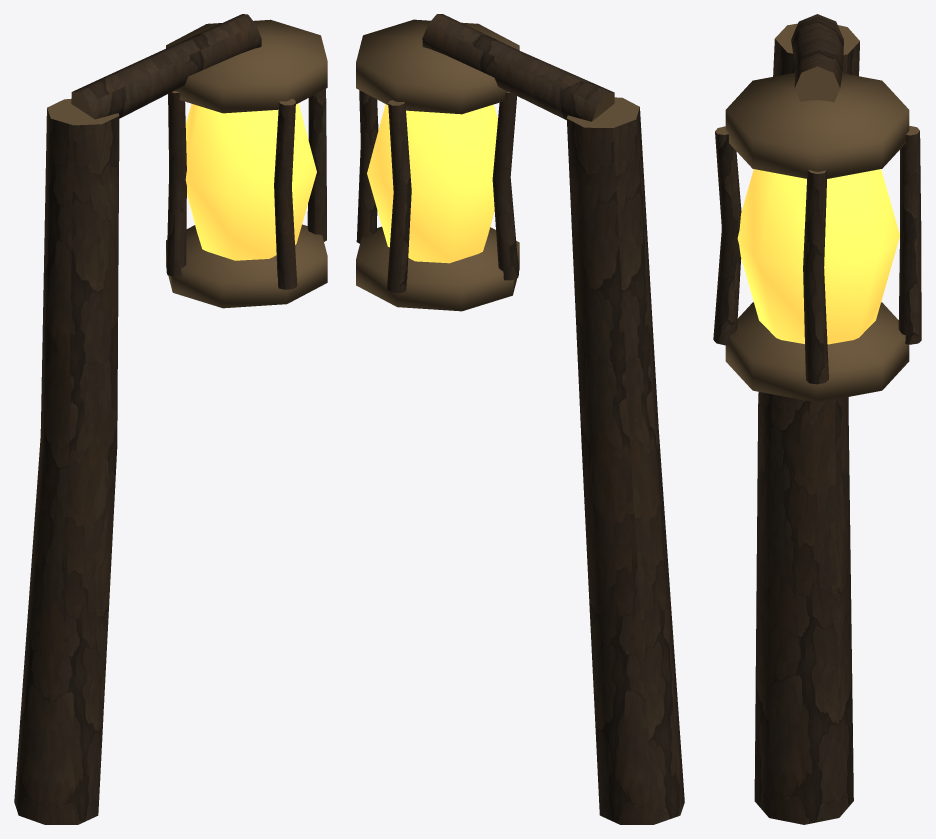
The picture shows the model from 3 angles, left to right: view 1: azimuth 30°, elevation 25°; view 2: azimuth 150°, elevation 25°; view 3: azimuth 270°, elevation 25°; orthographic projection. The views are drawn at different scales.
Parts seen in each view (by area): view 1: Crooked lantern stake; view 2: Crooked lantern stake; view 3: Crooked lantern stake.
Boxes of the visible parts, x1,y1,x2,y2 form: Crooked lantern stake: (14, 14, 327, 824); Crooked lantern stake: (356, 14, 684, 824); Crooked lantern stake: (713, 14, 921, 824).
Size of the model in its own units: 1.24 by 2.83 by 0.6299.
Materials: 3 (1 with a texture image).
